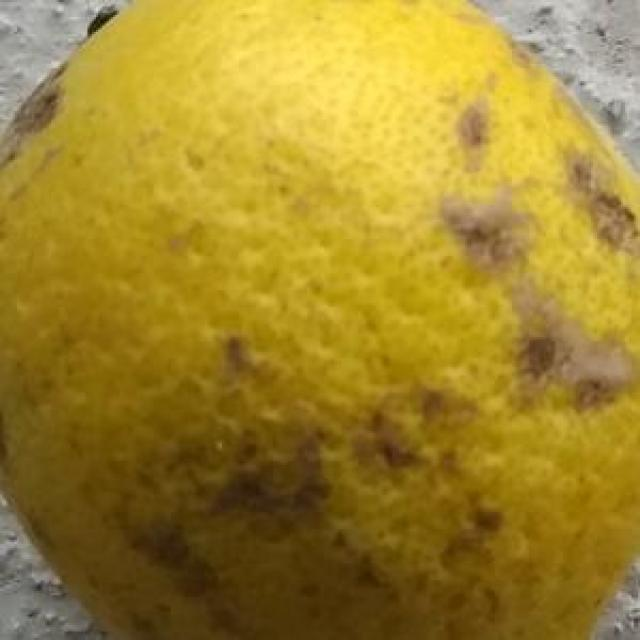lemon: (1, 0, 640, 635)
